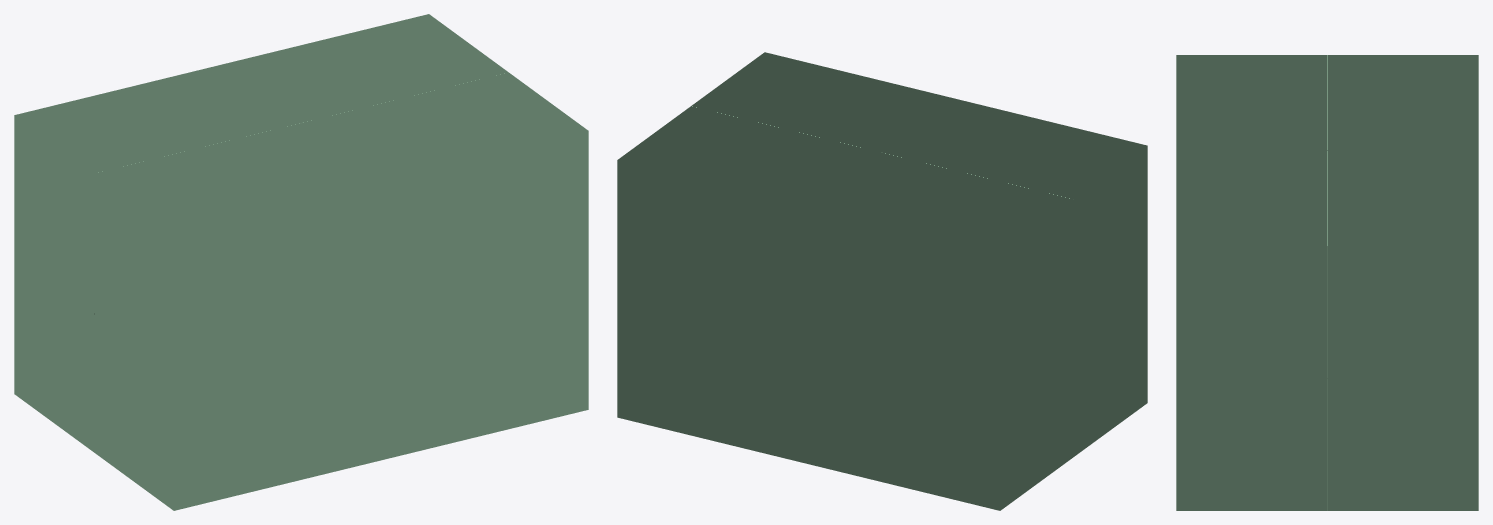
The model's file is prop_dumpster_metal_a.glb.
3 views of the same model, side by side, from view 1: azimuth 30°, elevation 25°; view 2: azimuth 150°, elevation 25°; view 3: azimuth 270°, elevation 25° (orthographic). The views are drawn at different scales.
Visible parts, largest first — view 1: prop_dumpster_metal_a; view 2: prop_dumpster_metal_a; view 3: prop_dumpster_metal_a.
Part boxes in pixels (x1,y1,x2,y2): prop_dumpster_metal_a: (14, 14, 588, 510); prop_dumpster_metal_a: (617, 52, 1147, 510); prop_dumpster_metal_a: (1176, 55, 1478, 510).
Size of the model in its own units: 2.1 by 1.68 by 1.4.
